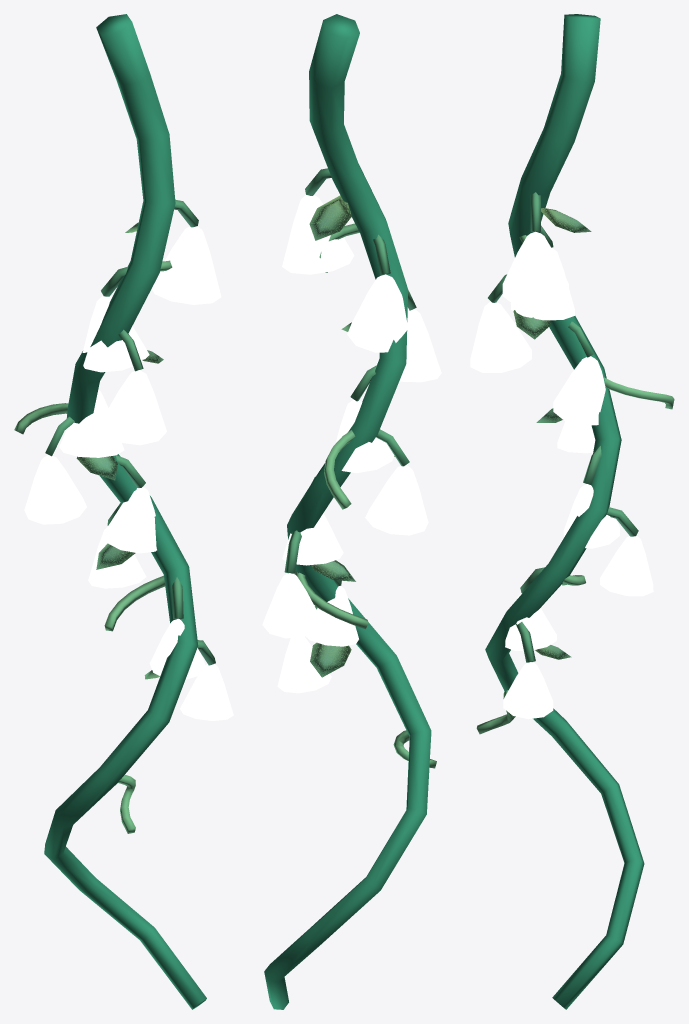
The model's file is verdant_hang_vines_glowbell.glb.
The picture shows the model from 3 angles, left to right: view 1: azimuth 30°, elevation 25°; view 2: azimuth 150°, elevation 25°; view 3: azimuth 270°, elevation 25°; orthographic projection. The views are drawn at different scales.
Visible parts, largest first — view 1: verdant_hang_vines_glowbell; view 2: verdant_hang_vines_glowbell; view 3: verdant_hang_vines_glowbell.
Part boxes in pixels (<box>): verdant_hang_vines_glowbell: <box>14,14,233,1009</box>; verdant_hang_vines_glowbell: <box>262,14,441,1009</box>; verdant_hang_vines_glowbell: <box>470,14,674,1009</box>.
Bounding box in the file's own units: 0.8179 × 4.55 × 0.8735.
